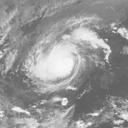cyclone: (21, 15, 111, 92)
